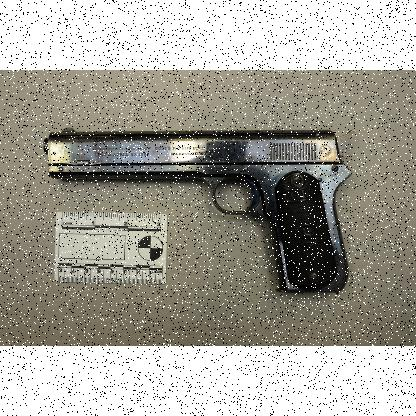gun: (43, 126, 355, 294)
